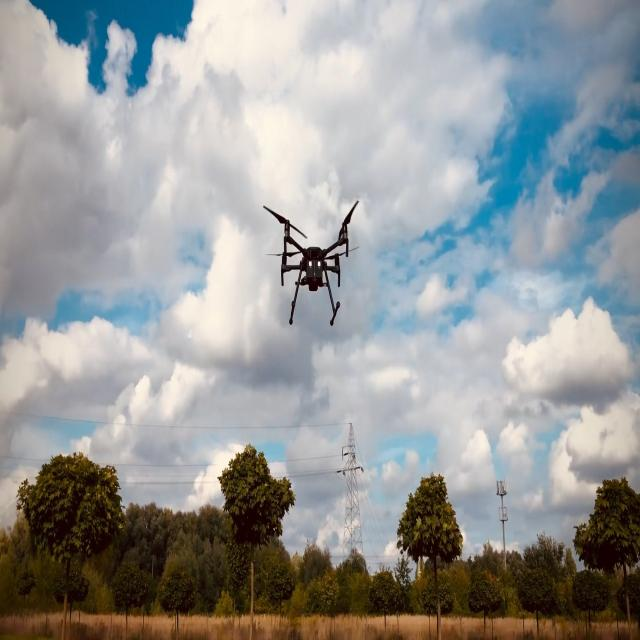drone: (262, 198, 360, 326)
